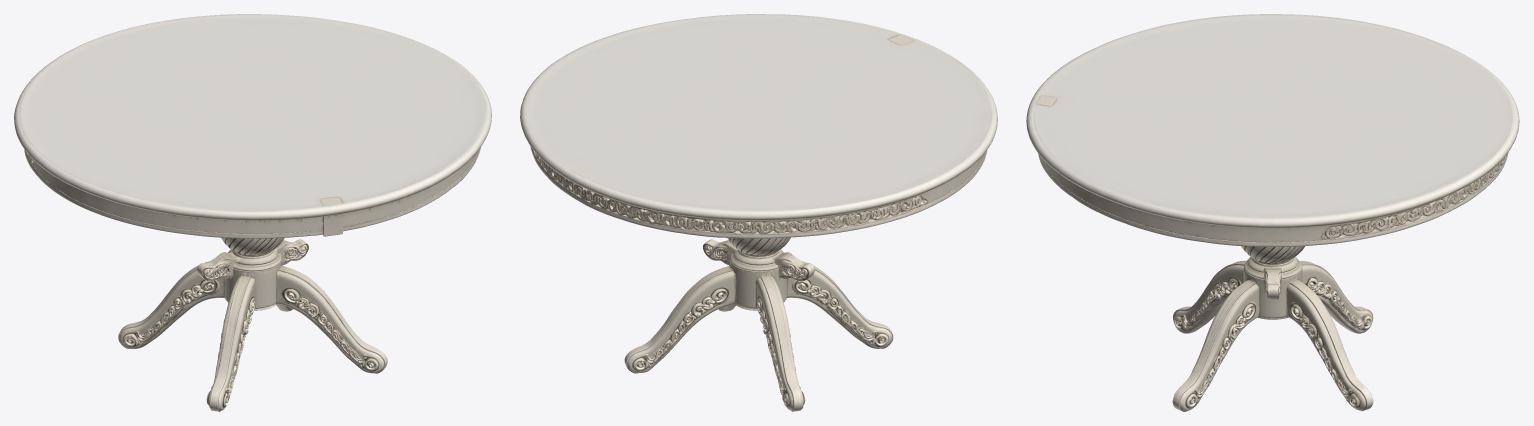
The model's file is Fanera.glb.
The picture shows the model from 3 angles, left to right: view 1: azimuth 30°, elevation 25°; view 2: azimuth 150°, elevation 25°; view 3: azimuth 270°, elevation 25°; orthographic projection. The views are drawn at different scales.
Visible parts, largest first — view 1: tripo_node_10172472-24c5-43aa-a7f3-3ebd1536747f; view 2: tripo_node_10172472-24c5-43aa-a7f3-3ebd1536747f; view 3: tripo_node_10172472-24c5-43aa-a7f3-3ebd1536747f.
Part boxes in pixels (bbox=[...]): tripo_node_10172472-24c5-43aa-a7f3-3ebd1536747f: bbox=[14, 14, 491, 411]; tripo_node_10172472-24c5-43aa-a7f3-3ebd1536747f: bbox=[520, 14, 997, 411]; tripo_node_10172472-24c5-43aa-a7f3-3ebd1536747f: bbox=[1026, 14, 1519, 411].
Size of the model in its own units: 0.9802 by 0.5555 by 0.9767.
Materials: 1 (1 with a texture image).
